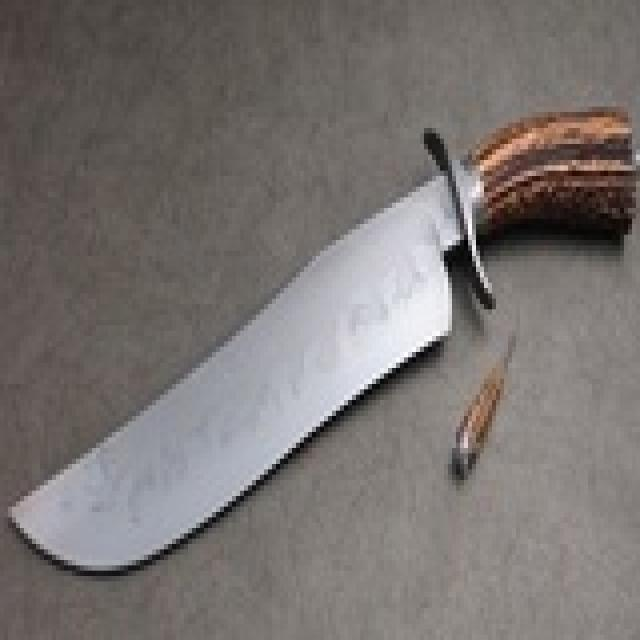Knife: (13, 101, 637, 573)
